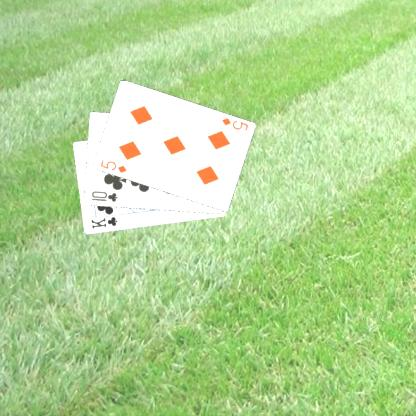10C: (88, 188, 119, 204)
5D: (218, 115, 250, 132), (97, 157, 128, 174)
KC: (88, 211, 121, 230)
